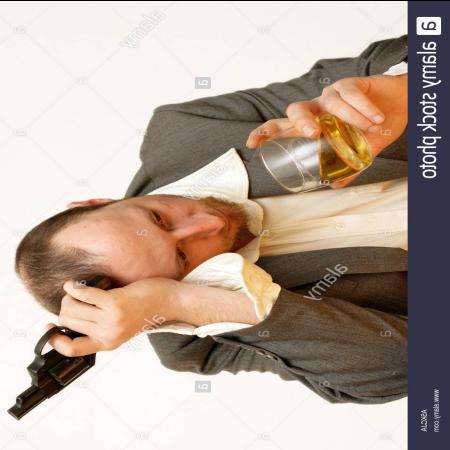Pistol: (2, 269, 132, 419)
